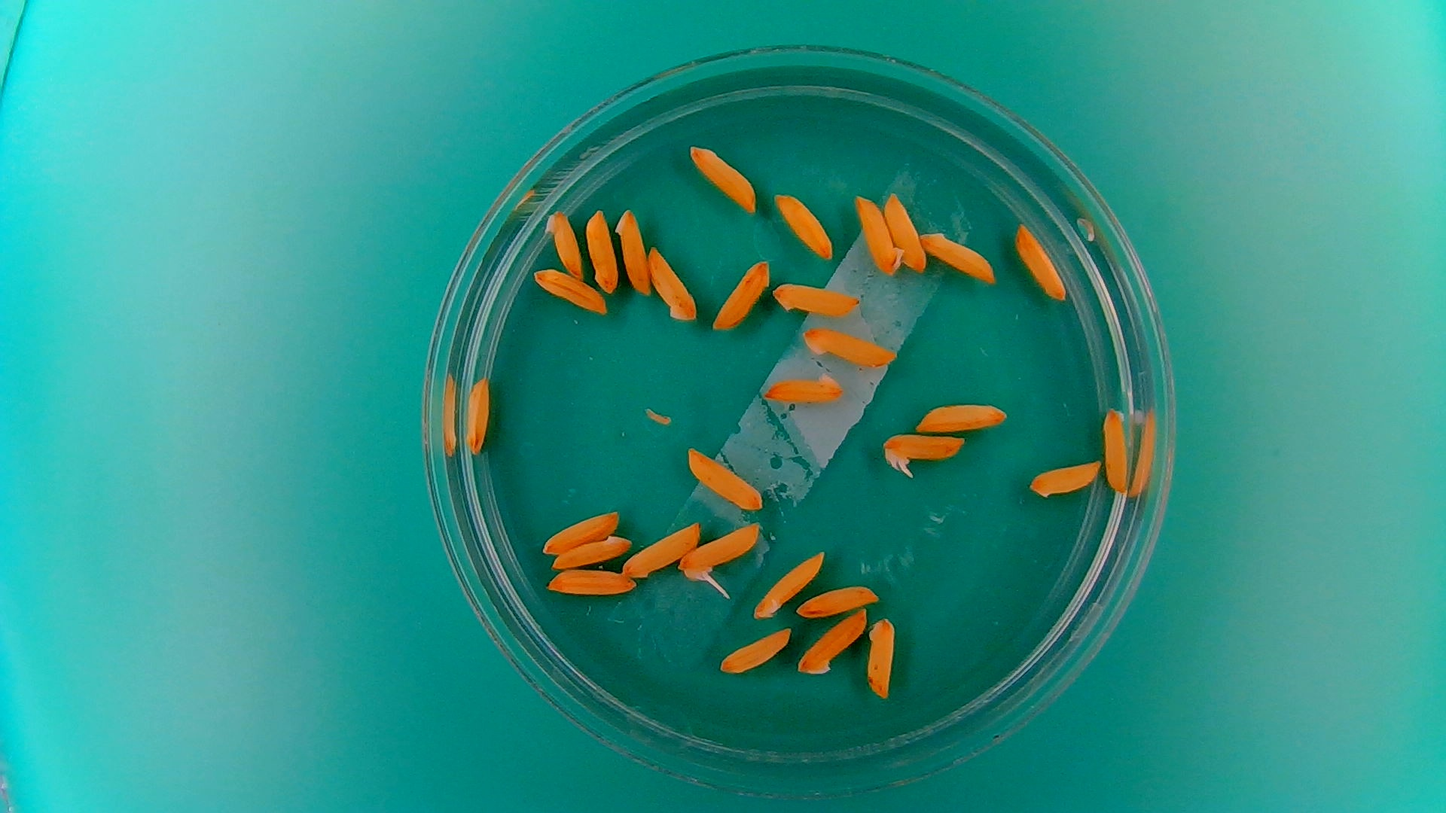no: (683, 444, 766, 512), (750, 547, 825, 621), (794, 606, 870, 678), (686, 141, 759, 215), (619, 518, 703, 579), (712, 255, 773, 332), (1013, 220, 1069, 303), (852, 190, 905, 277), (920, 228, 999, 286), (772, 189, 836, 260), (612, 204, 658, 300), (803, 324, 898, 370), (645, 243, 698, 324), (538, 507, 621, 557), (718, 625, 795, 677), (770, 279, 864, 319), (883, 189, 926, 276), (531, 265, 607, 314), (912, 397, 1010, 434), (760, 368, 846, 406), (797, 581, 882, 619), (548, 532, 633, 570), (1027, 458, 1102, 501), (584, 206, 620, 294), (543, 206, 584, 279), (864, 614, 898, 699), (543, 567, 636, 598), (1101, 403, 1130, 495), (461, 372, 493, 455)
yes: (676, 519, 762, 586), (881, 428, 966, 484)
